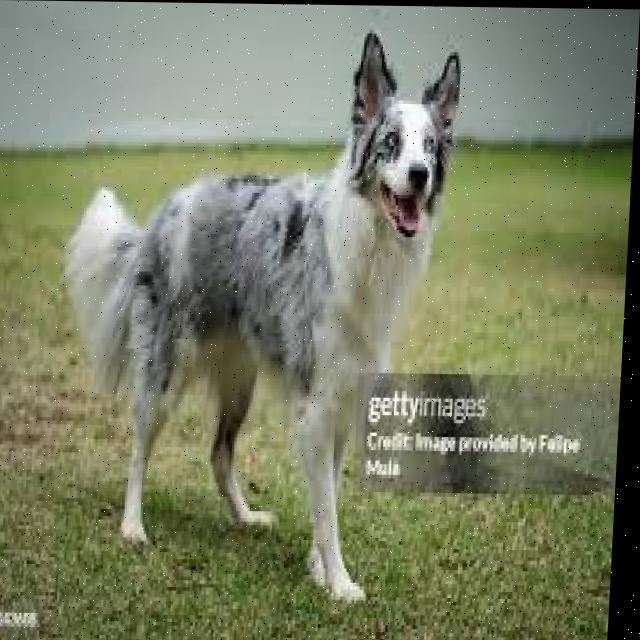BORDER_COLLIE: (40, 14, 477, 627)
